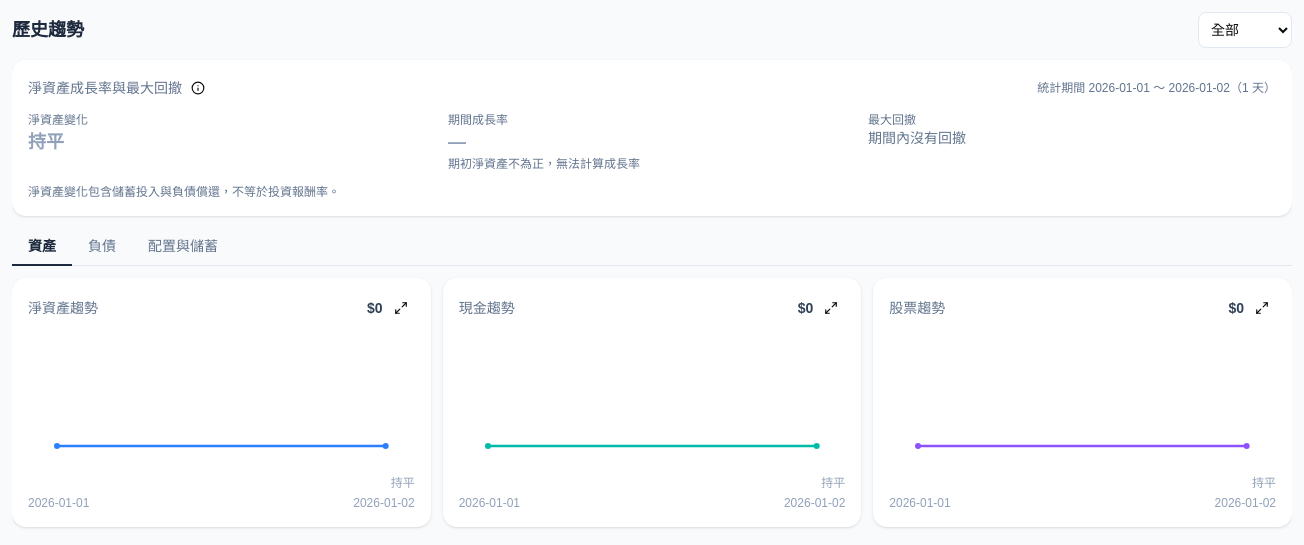
Scenario: TrendSection › 分組分頁 › 切換到「配置與儲蓄」分頁後依序顯示資產配置、儲蓄率
Press the mouse on the tab "配置與儲蓄" at (183, 247), box [132,228,234,266]
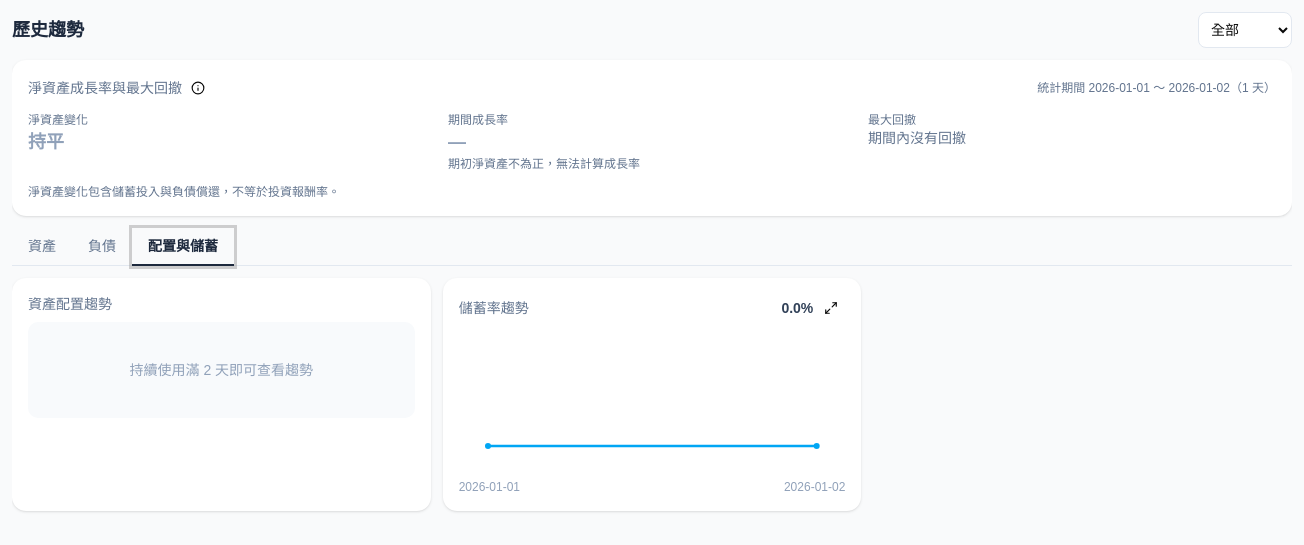
Now the text "淨資產趨勢" is gone
Now the text "現金趨勢" is gone
Now the text "股票趨勢" is gone
